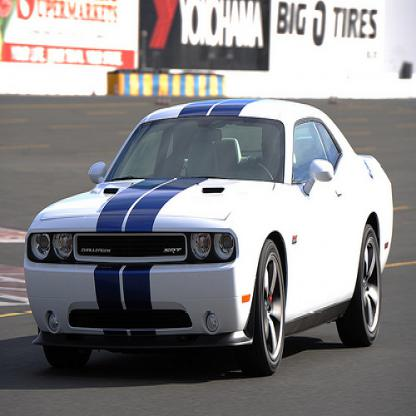Vehicle: (24, 103, 394, 372)
